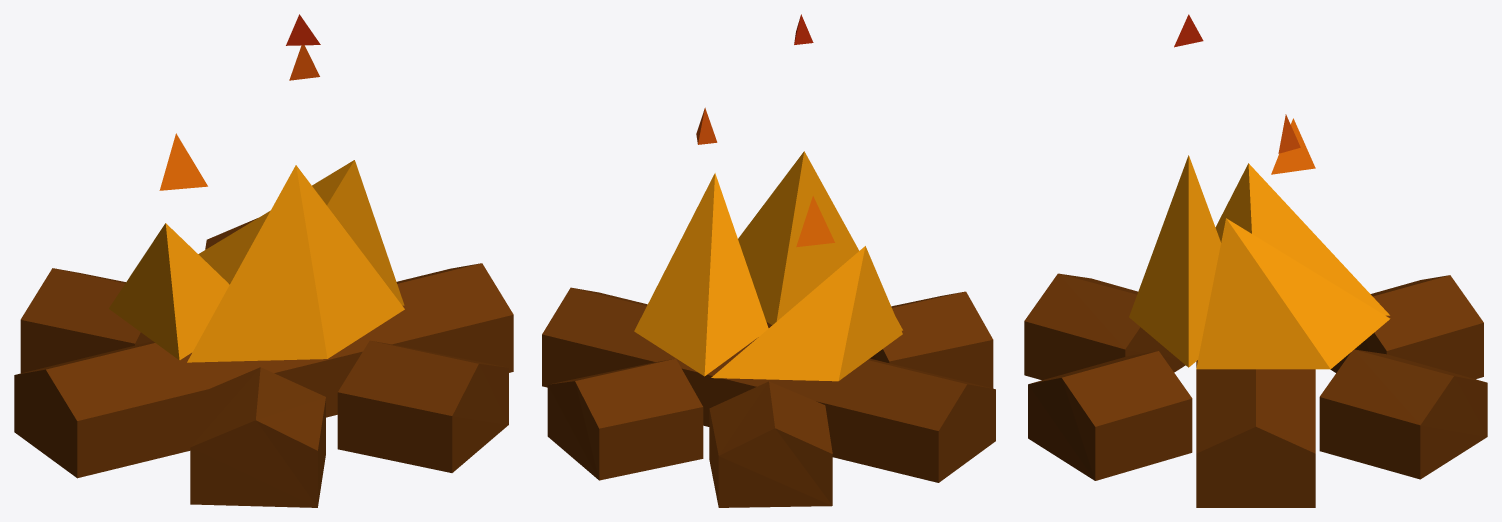
File: firea2.obj
3 renders of one model, left to right at view 1: azimuth 30°, elevation 25°; view 2: azimuth 150°, elevation 25°; view 3: azimuth 270°, elevation 25°, orthographic. The views are drawn at different scales.
Visible parts, largest first — view 1: firea2_back; view 2: firea2_back; view 3: firea2_back.
Part boxes in pixels (left/top/right/bottom): firea2_back: left=14, top=14, right=513, bottom=507; firea2_back: left=542, top=14, right=995, bottom=507; firea2_back: left=1024, top=14, right=1487, bottom=507.
Bounding box in the file's own units: 1.28 × 1.16 × 1.24.
